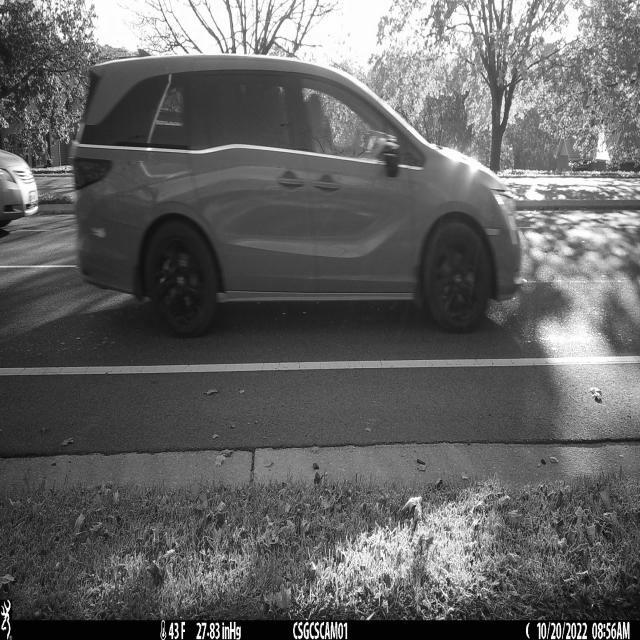Van: (72, 52, 524, 336)
